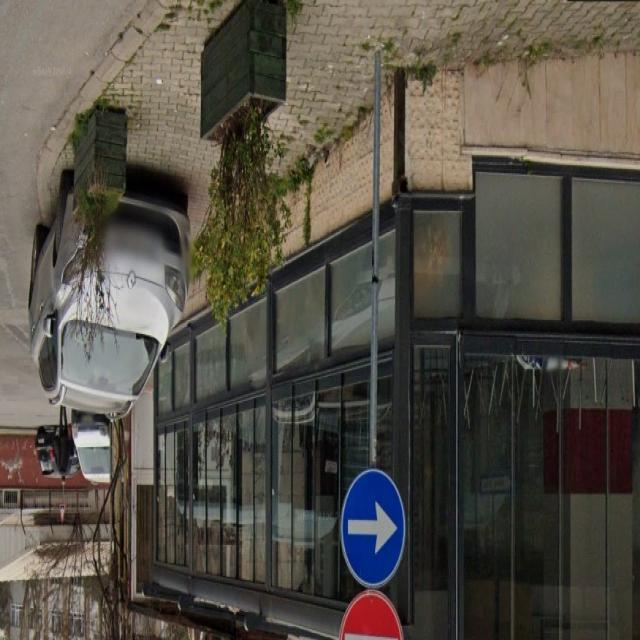Turn Right: (341, 461, 404, 578)
